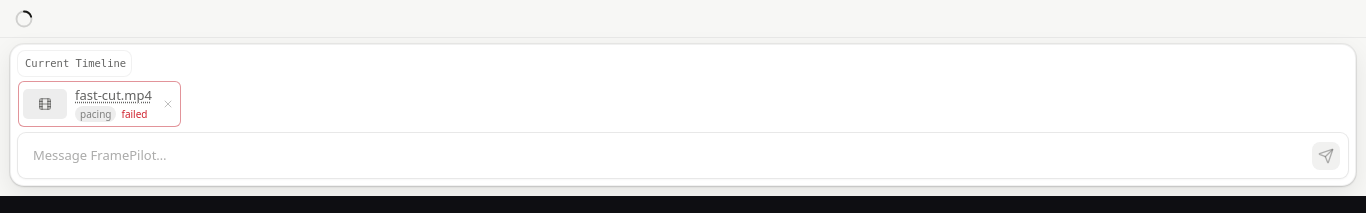
Test: reference tiles (P3.6) › states why an analysis failed on the tile, with the retry next to it
Click the button with aria-label "What FramePilot learned from".
click(113, 95)  # box [75,86,152,105]
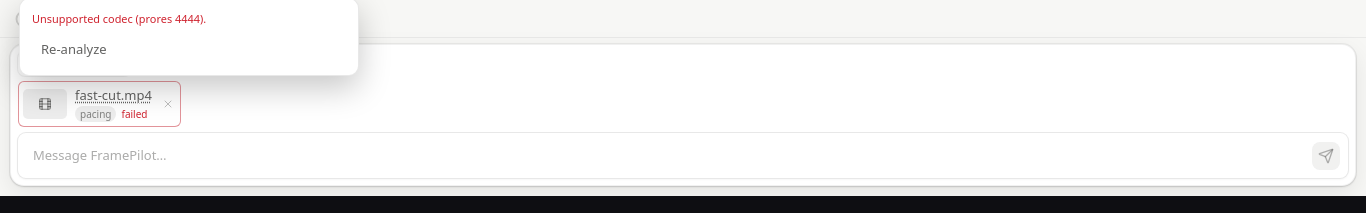
Expected: the text "Unsupported codec (prores 4444)." is shown, [32,11,206,26]
Expected: the button "Re-analyze" is shown, [32,35,116,63]
